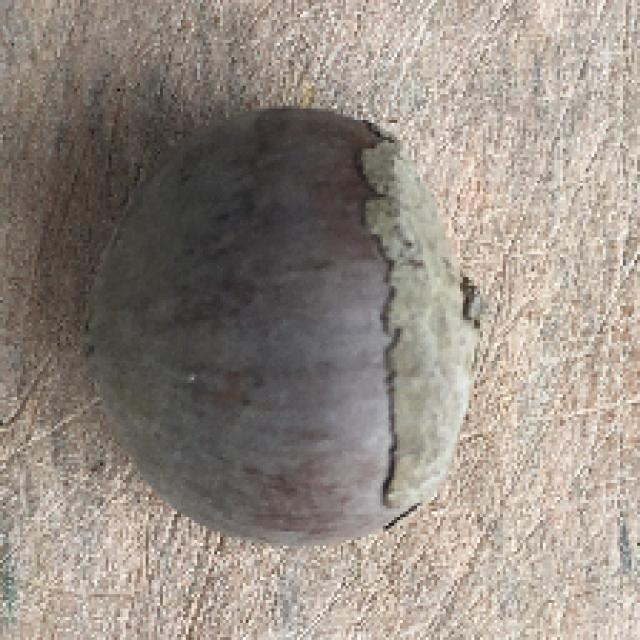DamagedHazelnut: (79, 113, 480, 543)
